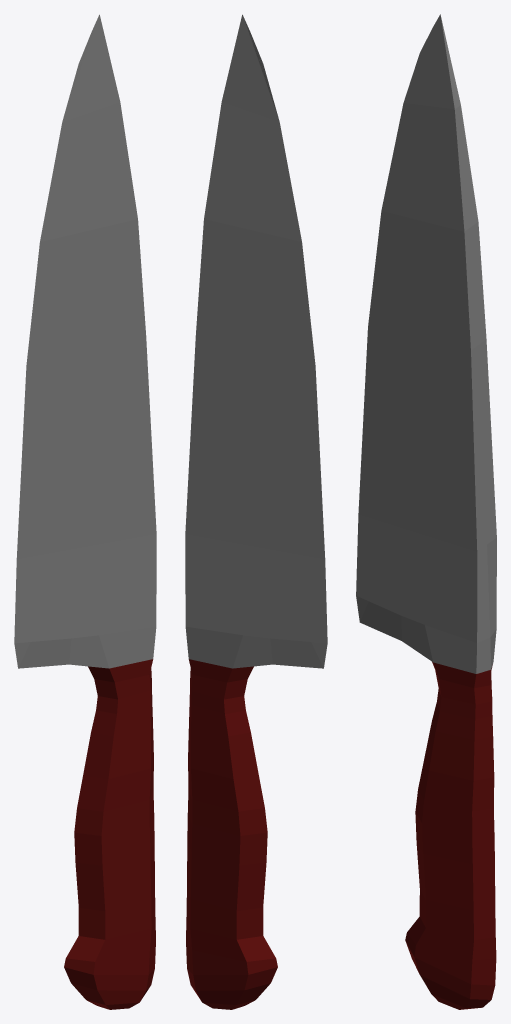
The model's file is knife.fbx.
The picture shows the model from 3 angles, left to right: view 1: azimuth 30°, elevation 25°; view 2: azimuth 150°, elevation 25°; view 3: azimuth 330°, elevation 25°; orthographic projection.
Visible parts, largest first — view 1: Cube; view 2: Cube; view 3: Cube.
Part boxes in pixels (x1=…): Cube: x1=14, y1=14, x2=156, y2=1009; Cube: x1=185, y1=14, x2=327, y2=1009; Cube: x1=356, y1=14, x2=496, y2=1009.
Bounding box in the file's own units: 68.14 × 458 × 16.96.
